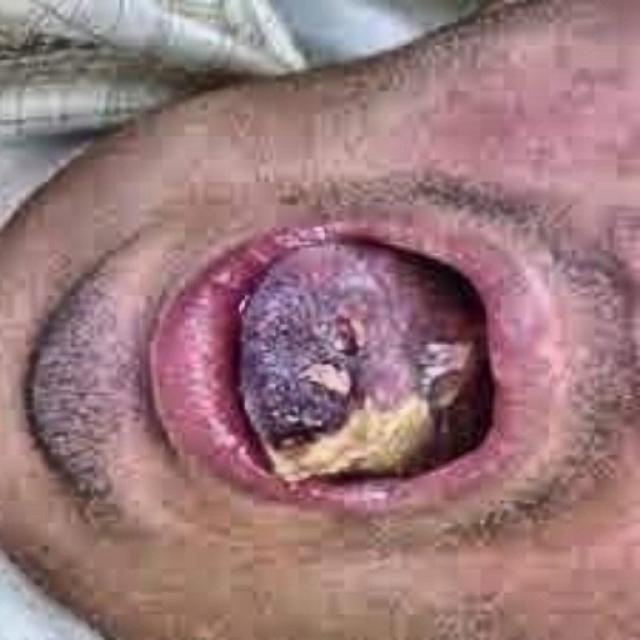cancer-detection: (239, 244, 477, 484)
processing_area: (160, 207, 551, 511)
